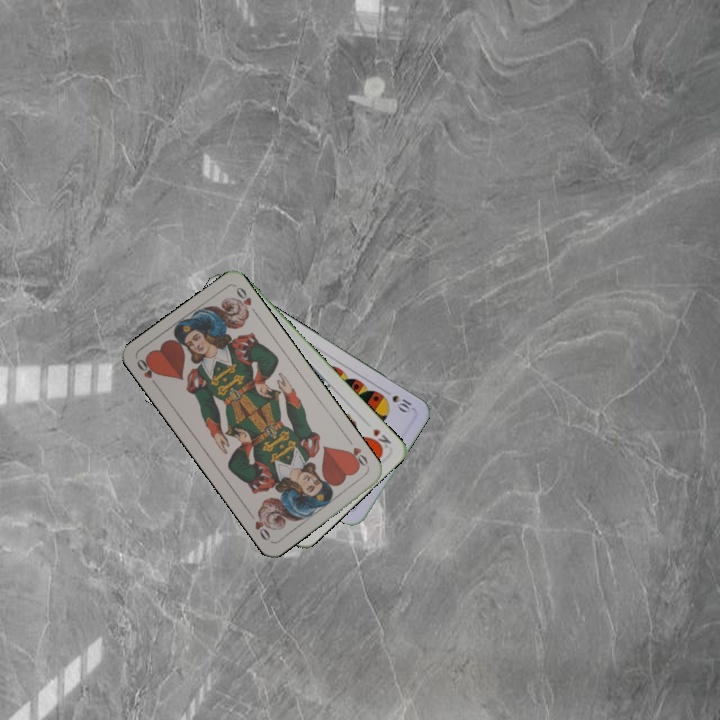HK: (366, 424, 394, 454)
HO: (342, 435, 372, 471), (133, 354, 161, 391)
S10: (379, 386, 416, 415)
